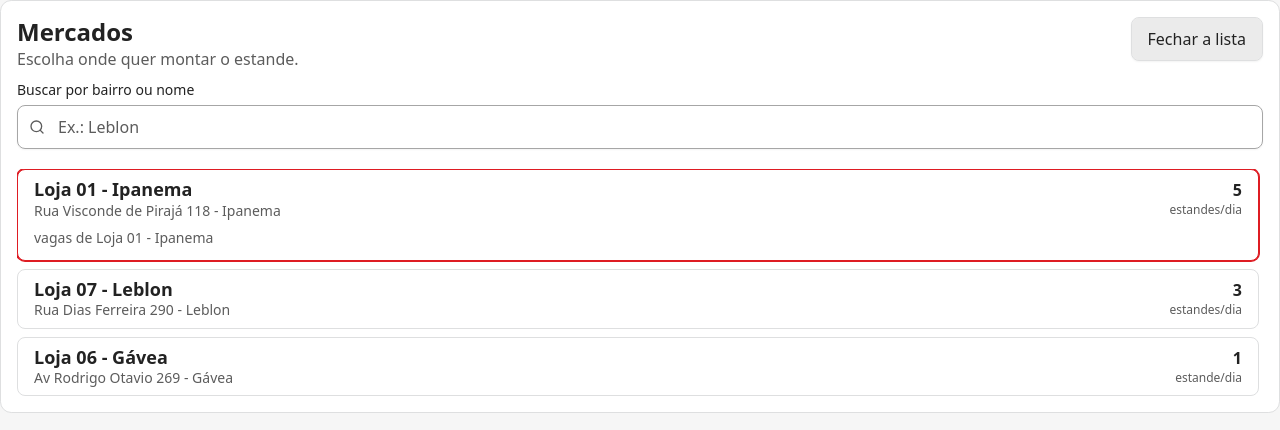
Test: MarketPicker: celular › escolher o que já estava escolhido só recolhe, e o foco vai para "Trocar de mercado"
Click the button "Loja 01 - Ipanema Rua Visconde de Pirajá 118 - Ipanema": (113, 189) [18,170,1258,228]
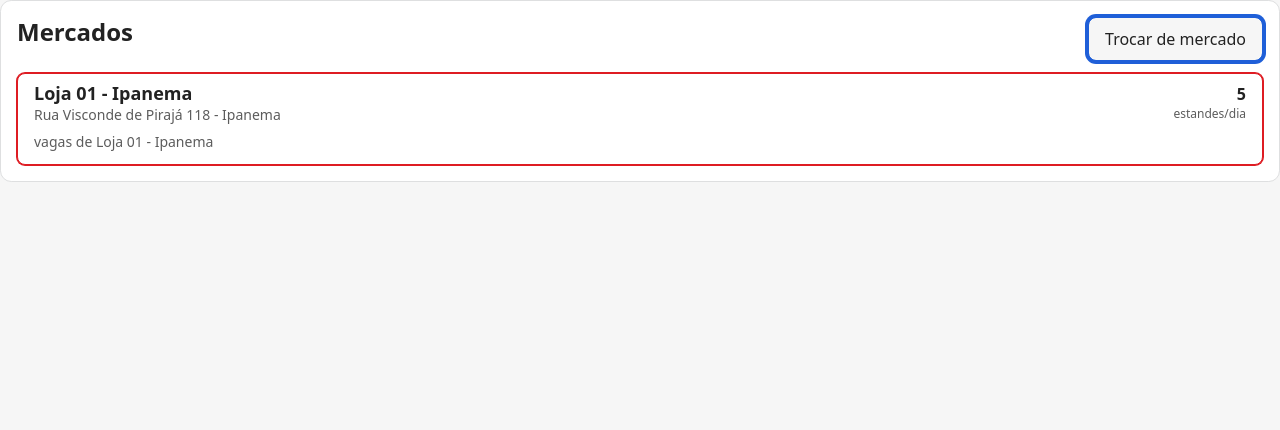
Expected: the number of list items is 1, [17,73,1263,165]
Expected: the button "Loja 07 - Leblon" is gone
Expected: the text "Escolha onde quer montar o estande." is gone
